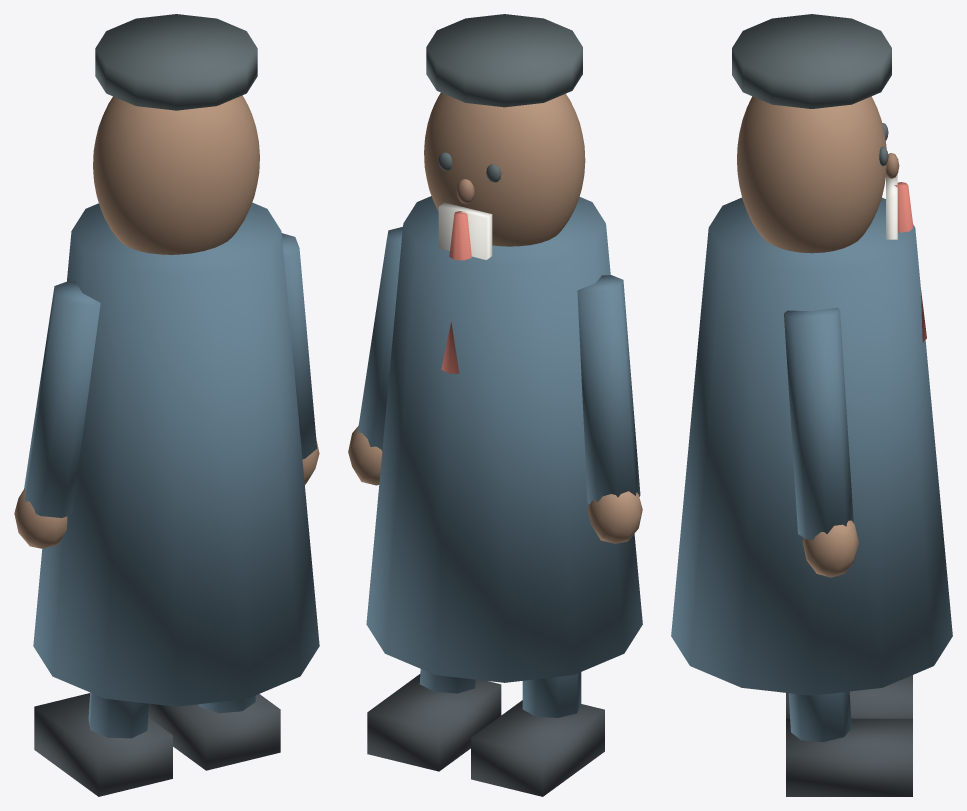
File: Man in Suit.glb
3 views of the same model, side by side, from view 1: azimuth 30°, elevation 25°; view 2: azimuth 150°, elevation 25°; view 3: azimuth 270°, elevation 25° (orthographic). The views are drawn at different scales.
Parts seen in each view (by area): view 1: vip_mat_00_suit_torso, vip_mat_01_head, vip_mat_06_shoe_-1, vip_mat_02_eye_-1; view 2: vip_mat_00_suit_torso, vip_mat_01_head, vip_mat_06_shoe_-1, vip_mat_02_eye_-1, vip_mat_04_shirt_front, vip_mat_05_tie; view 3: vip_mat_00_suit_torso, vip_mat_01_head, vip_mat_02_eye_-1, vip_mat_06_shoe_-1, vip_mat_05_tie, vip_mat_04_shirt_front.
Part boxes in pixels (left/top/right/bottom): vip_mat_00_suit_torso: left=24, top=202, right=319, bottom=738; vip_mat_01_head: left=14, top=95, right=319, bottom=548; vip_mat_06_shoe_-1: left=34, top=693, right=280, bottom=796; vip_mat_02_eye_-1: left=95, top=14, right=257, bottom=110; vip_mat_00_suit_torso: left=357, top=196, right=642, bottom=717; vip_mat_01_head: left=348, top=92, right=642, bottom=543; vip_mat_06_shoe_-1: left=367, top=674, right=604, bottom=796; vip_mat_02_eye_-1: left=426, top=14, right=582, bottom=182; vip_mat_04_shirt_front: left=438, top=202, right=492, bottom=259; vip_mat_05_tie: left=441, top=211, right=471, bottom=373; vip_mat_00_suit_torso: left=671, top=197, right=952, bottom=741; vip_mat_01_head: left=737, top=96, right=886, bottom=577; vip_mat_02_eye_-1: left=732, top=14, right=891, bottom=166; vip_mat_06_shoe_-1: left=786, top=675, right=912, bottom=796; vip_mat_05_tie: left=894, top=182, right=926, bottom=342; vip_mat_04_shirt_front: left=886, top=174, right=897, bottom=239.
Size of the model in its own units: 0.72 by 1.66 by 0.6.
